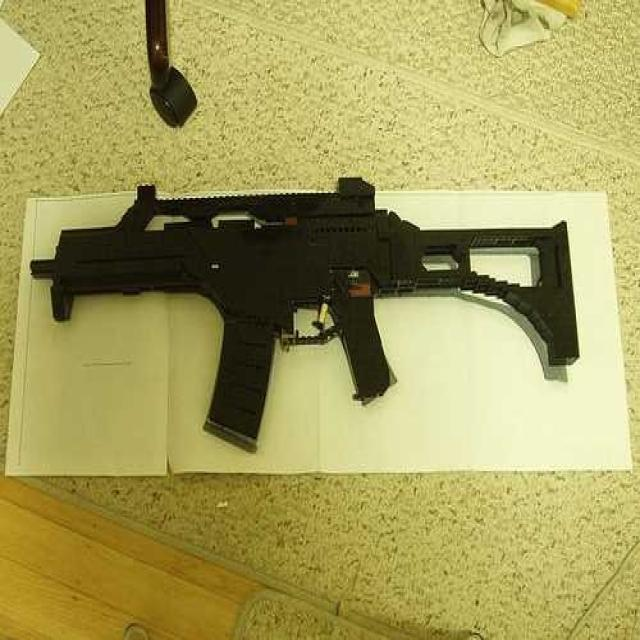Rifle: (20, 175, 583, 486)
